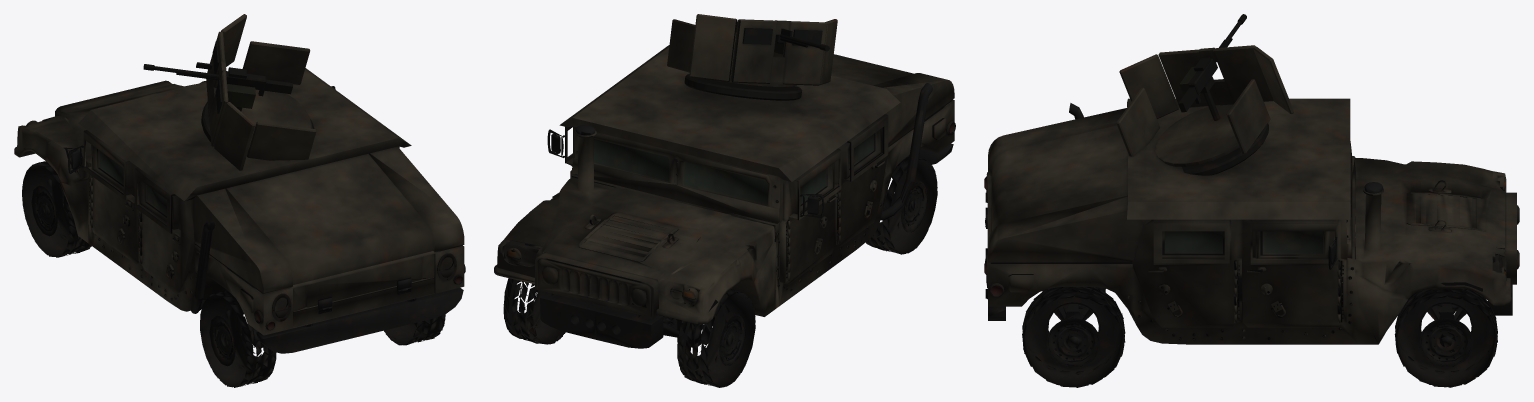
Rendered from humvee-wreck.glb.
3 renders of one model, left to right at view 1: azimuth 30°, elevation 25°; view 2: azimuth 150°, elevation 25°; view 3: azimuth 270°, elevation 25°, orthographic. The views are drawn at different scales.
Visible parts, largest first — view 1: hull, turret; view 2: hull, turret; view 3: hull, turret.
Part boxes in pixels (bbox=[...]): hull: bbox=[14, 68, 465, 387]; turret: bbox=[143, 14, 316, 170]; hull: bbox=[494, 32, 955, 387]; turret: bbox=[667, 14, 837, 100]; hull: bbox=[984, 98, 1519, 387]; turret: bbox=[1116, 14, 1293, 175].
Bounding box in the file's own units: 2.79 × 2.71 × 4.57.
1 material, 1 textured.
